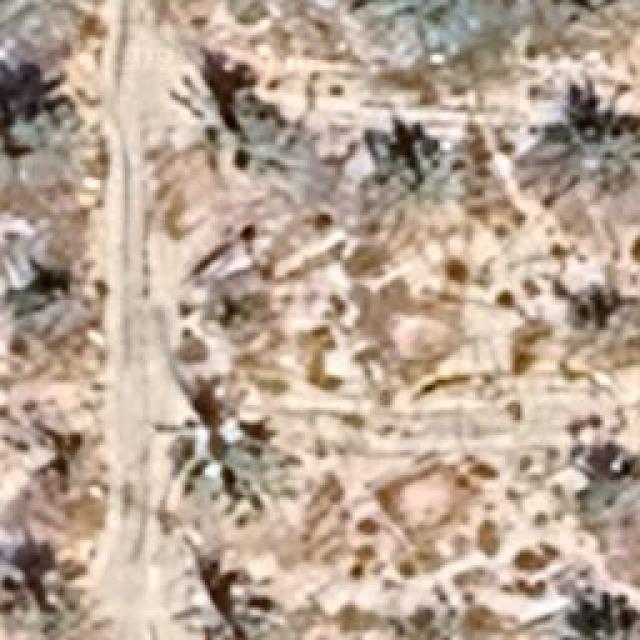PalmTree: (118, 86, 226, 596), (120, 28, 416, 86), (160, 402, 275, 502), (0, 54, 88, 182), (212, 90, 312, 190), (0, 230, 88, 342), (1, 581, 118, 640), (370, 128, 448, 215), (0, 544, 85, 608), (577, 454, 640, 536), (0, 0, 100, 50), (571, 275, 631, 350), (567, 590, 640, 640), (582, 135, 638, 200), (546, 1, 639, 34), (547, 0, 640, 21)
